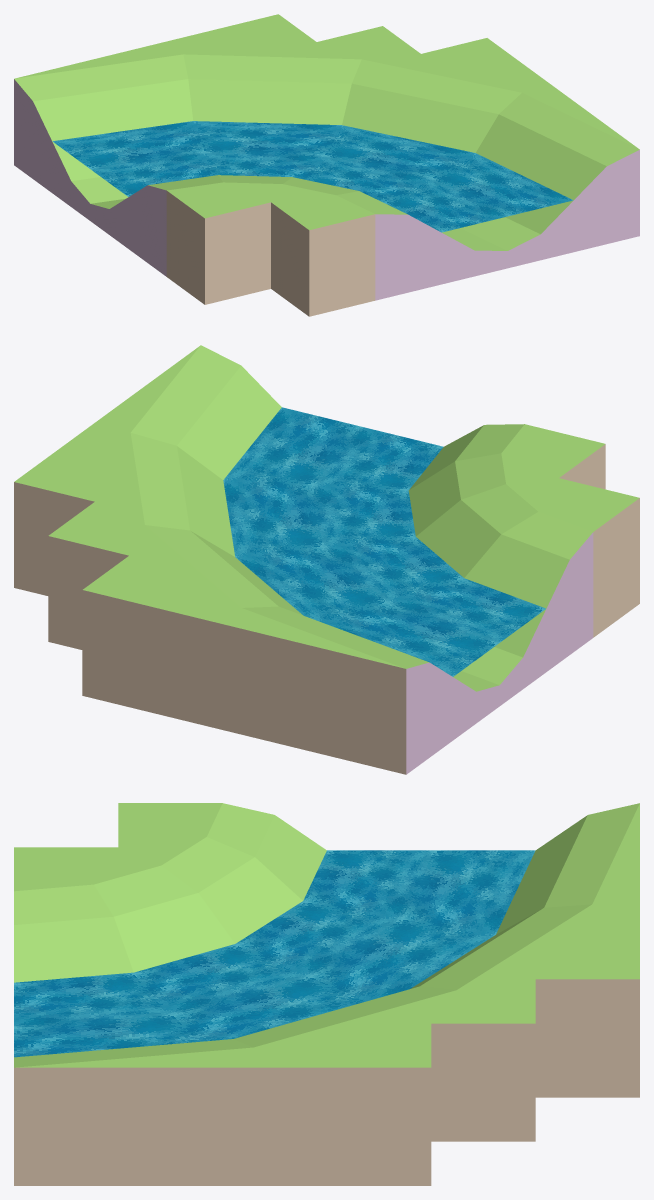
Rendered from River_Curve_Narrow_Large_CCW.glb.
3 views of the same model, one above another, from view 1: azimuth 30°, elevation 25°; view 2: azimuth 150°, elevation 25°; view 3: azimuth 270°, elevation 25° (orthographic). The views are drawn at different scales.
Visible parts, largest first — view 1: Grass_Hill_Sharp_Curve_Inner_6x6, Grass_Hill_Sharp_Curve_Outer_4x4, Terrain_Water_River_Curve_CW_5x5; view 2: Grass_Hill_Sharp_Curve_Inner_6x6, Terrain_Water_River_Curve_CW_5x5, Grass_Hill_Sharp_Curve_Outer_4x4; view 3: Grass_Hill_Sharp_Curve_Inner_6x6, Terrain_Water_River_Curve_CW_5x5, Grass_Hill_Sharp_Curve_Outer_4x4.
Boxes of the visible parts, x1=… form: Grass_Hill_Sharp_Curve_Inner_6x6: x1=14, y1=14, x2=639, y2=268; Grass_Hill_Sharp_Curve_Outer_4x4: x1=90, y1=175, x2=507, y2=316; Terrain_Water_River_Curve_CW_5x5: x1=52, y1=121, x2=573, y2=232; Grass_Hill_Sharp_Curve_Inner_6x6: x1=14, y1=345, x2=499, y2=774; Terrain_Water_River_Curve_CW_5x5: x1=223, y1=407, x2=545, y2=676; Grass_Hill_Sharp_Curve_Outer_4x4: x1=408, y1=424, x2=639, y2=705; Grass_Hill_Sharp_Curve_Inner_6x6: x1=14, y1=803, x2=639, y2=1185; Terrain_Water_River_Curve_CW_5x5: x1=14, y1=850, x2=535, y2=1057; Grass_Hill_Sharp_Curve_Outer_4x4: x1=14, y1=803, x2=326, y2=982.
Size of the model in its own units: 600 by 125 by 600.
Materials: 6 (1 with a texture image).
